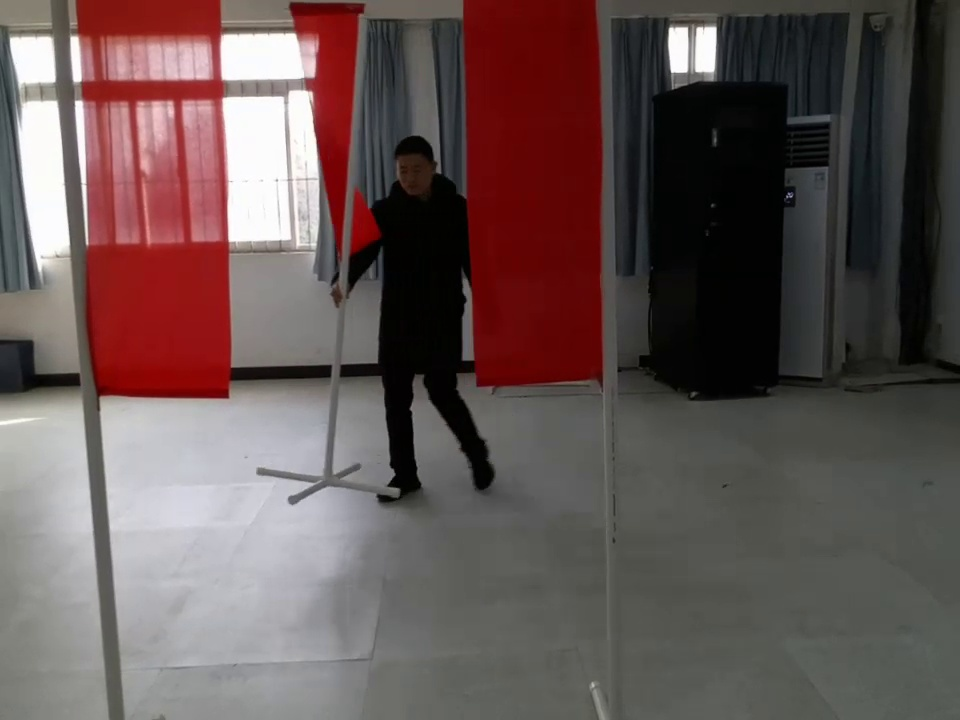qi: (53, 1, 241, 409), (463, 1, 638, 397), (281, 1, 361, 268)
